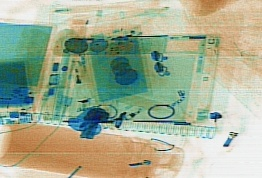lighter: (68, 45, 87, 85)
